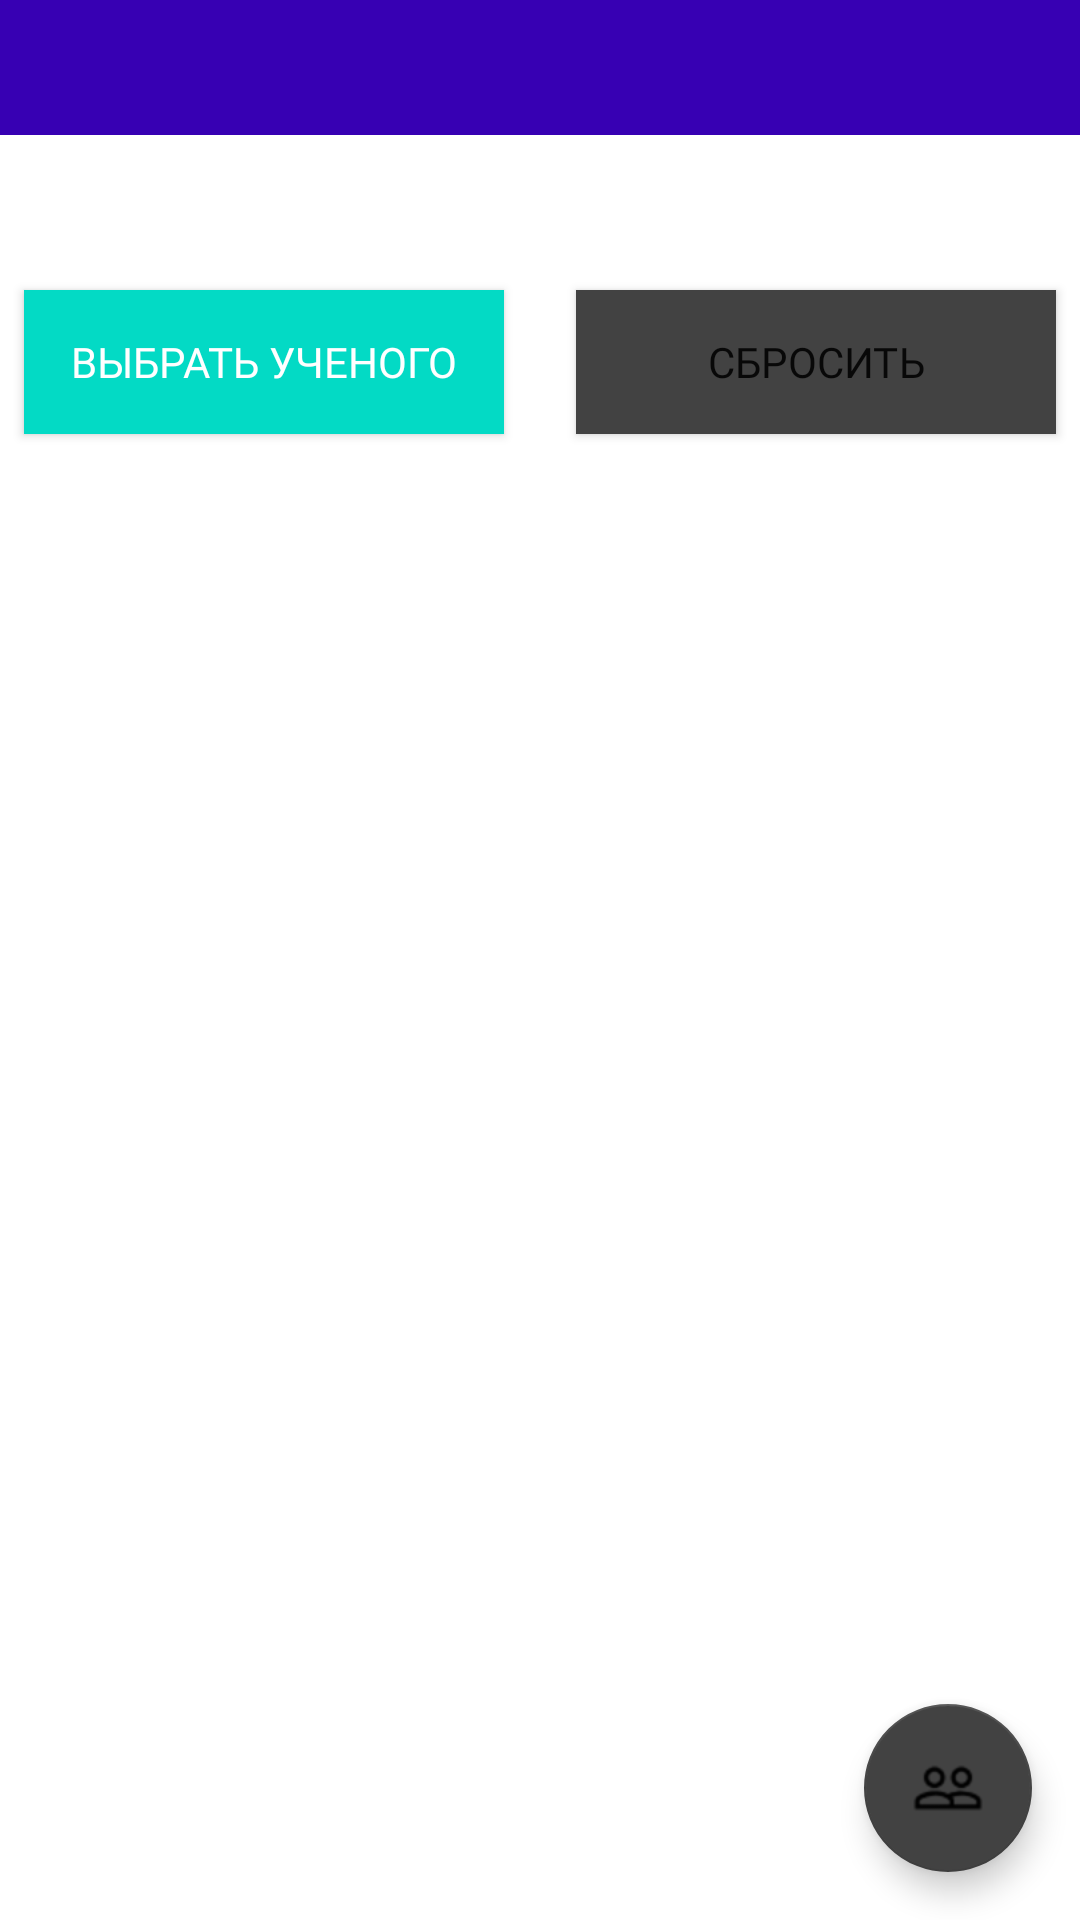

Locate icon controls on the screen. Image size 1080×1920, boxes as box(x1, y1, x2, y2).
people: box(864, 1704, 1032, 1872)
